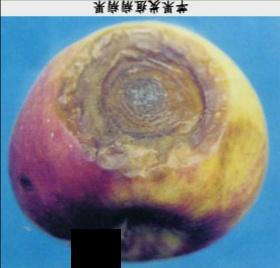rotten apple: (5, 18, 268, 261)
